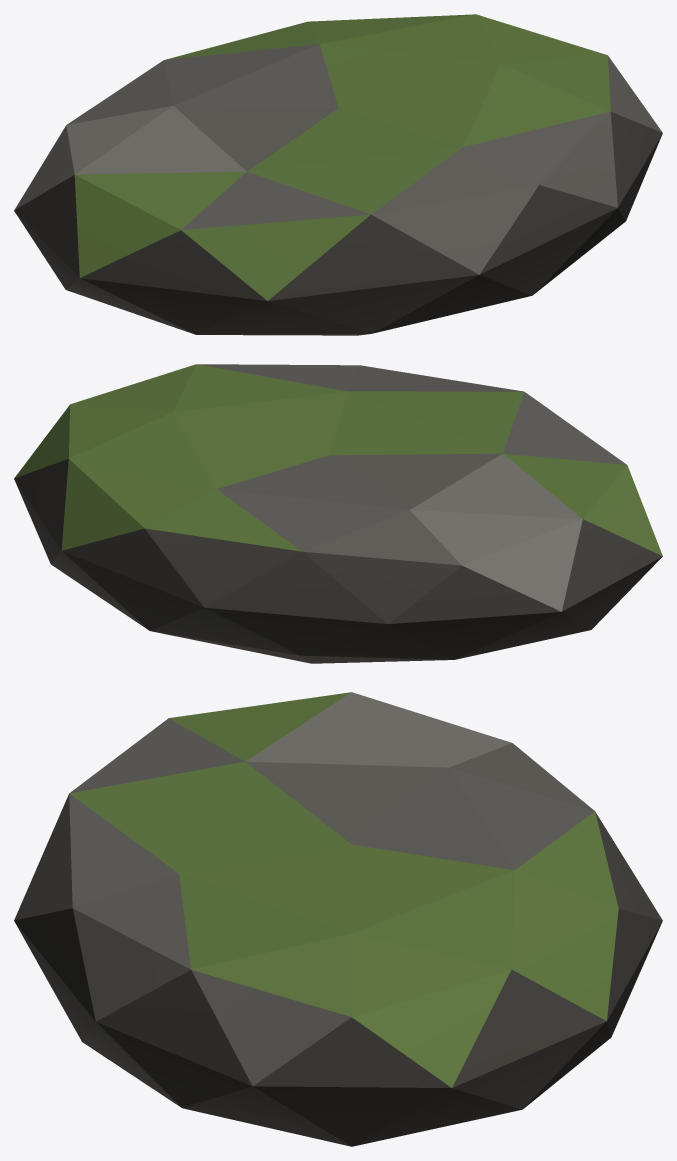
File: creek_stone_c_low.glb
3 views of the same model, one above another, from view 1: azimuth 30°, elevation 25°; view 2: azimuth 150°, elevation 25°; view 3: azimuth 270°, elevation 25° (orthographic). The views are drawn at different scales.
Visible parts, largest first — view 1: creek_stone_c; view 2: creek_stone_c; view 3: creek_stone_c.
Part boxes in pixels (<box>): creek_stone_c: <box>14,14,662,335</box>; creek_stone_c: <box>14,364,662,663</box>; creek_stone_c: <box>14,692,662,1146</box>.
Bounding box in the file's own units: 0.6909 × 0.2081 × 0.5495.
